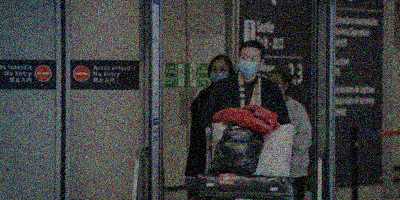with_mask: (238, 53, 261, 77), (209, 64, 232, 84), (270, 77, 286, 96)
